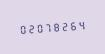eight: (53, 19, 61, 33)
four: (80, 18, 88, 31)
seven: (44, 20, 52, 33)
six: (71, 18, 79, 32)
two: (26, 21, 34, 35), (62, 19, 70, 32)
zero: (17, 22, 25, 35), (35, 21, 43, 34)
